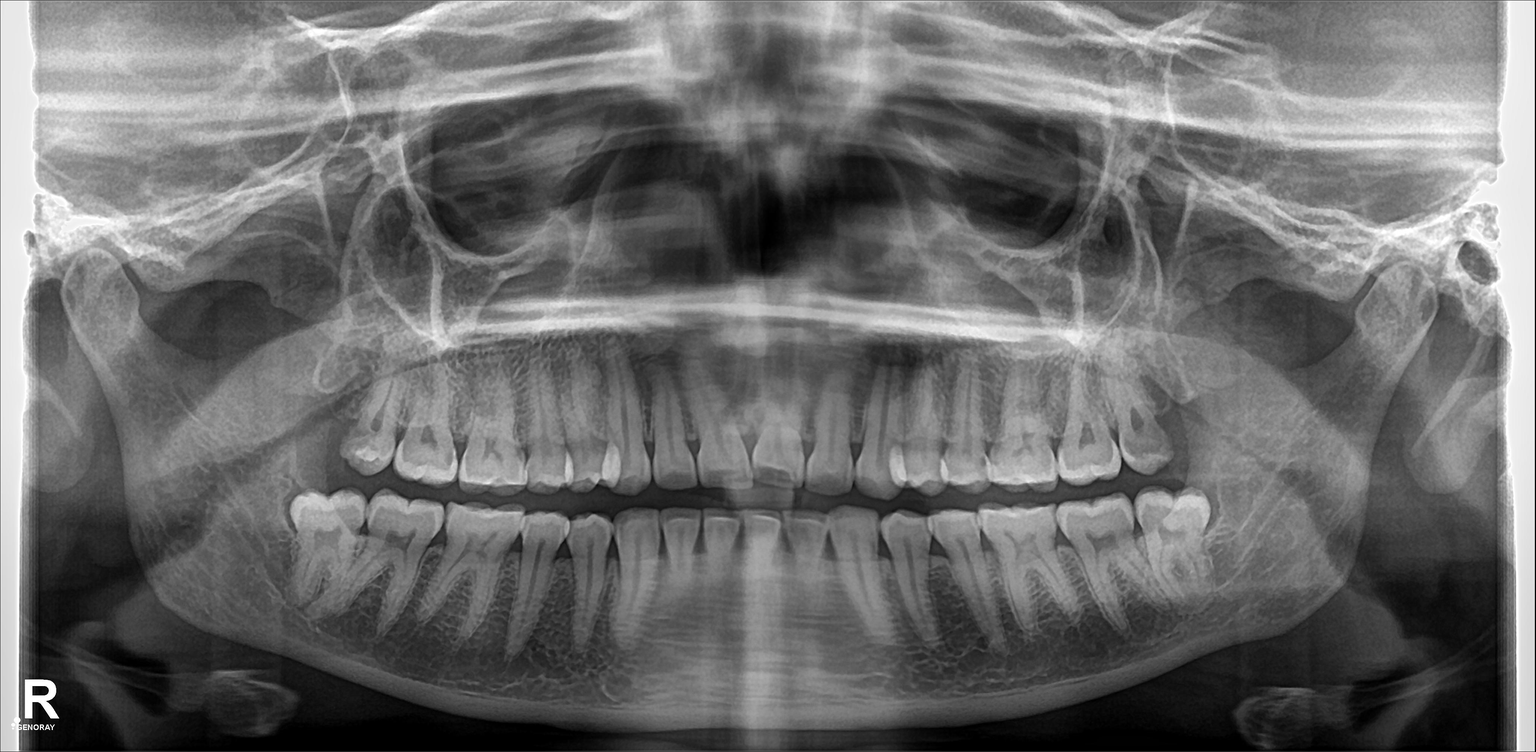Missing Tooth: (311, 361, 356, 484)
